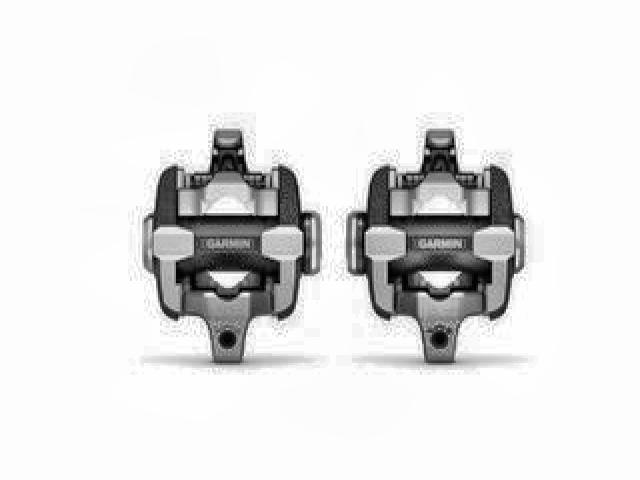pedal: (343, 126, 529, 366), (139, 127, 325, 365)
